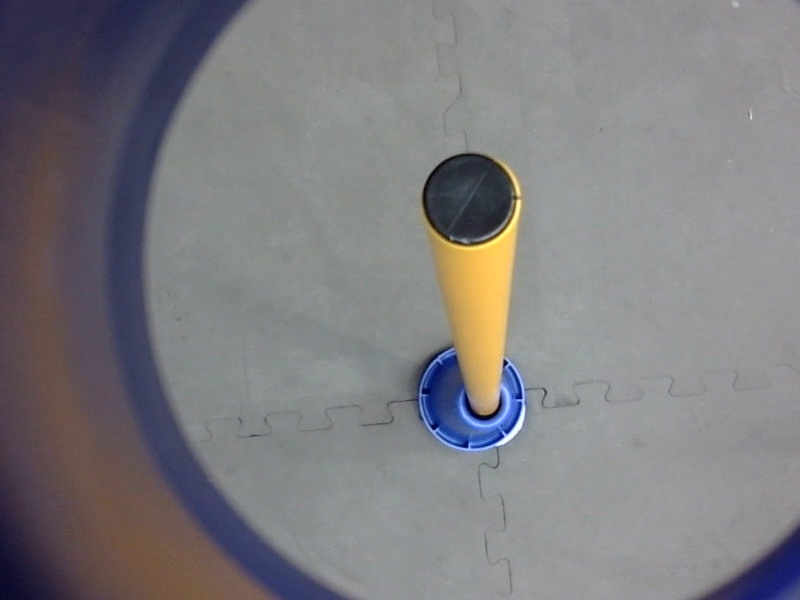tip: (416, 146, 528, 253)
